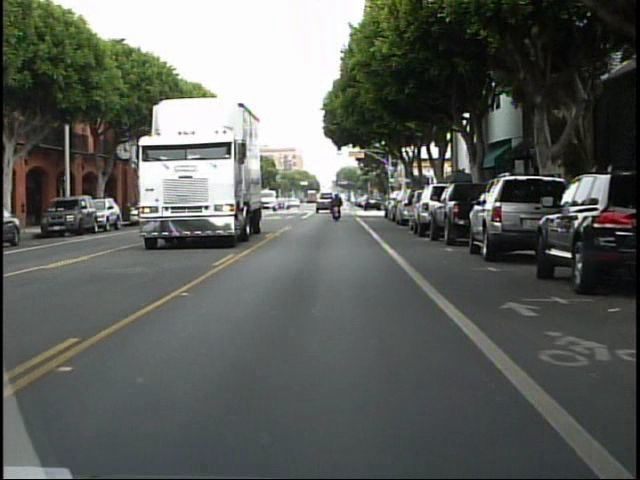person: (330, 191, 343, 223)
